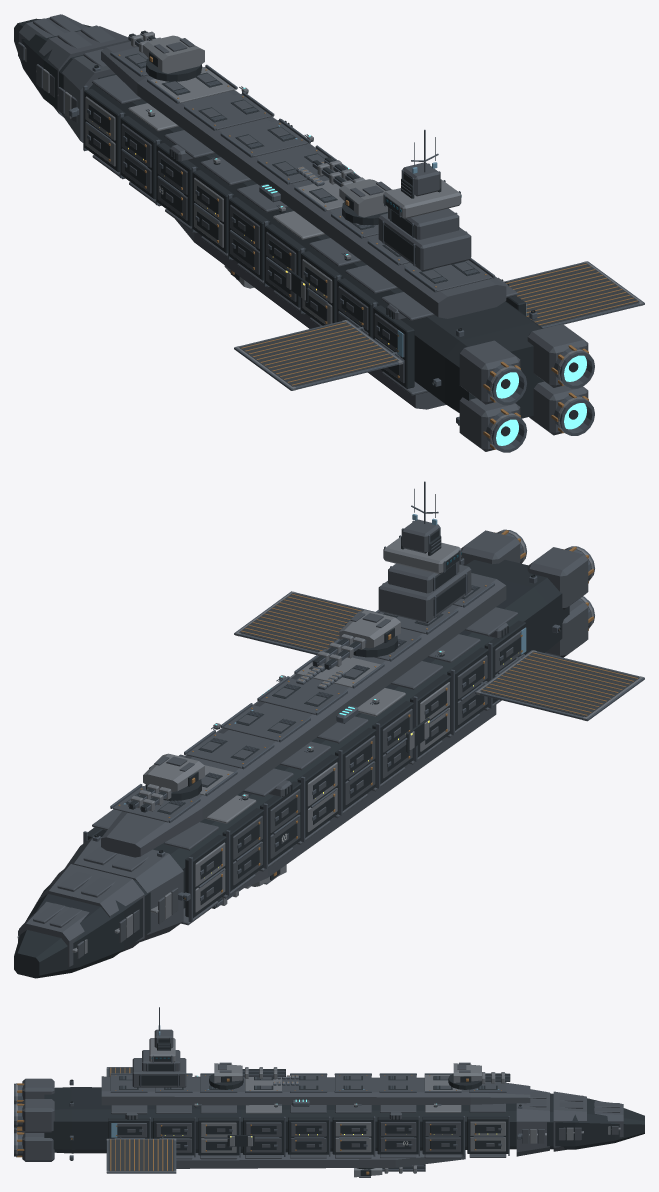
The model's file is battleship.glb.
The picture shows the model from 3 angles, top to bottom: view 1: azimuth 30°, elevation 25°; view 2: azimuth 150°, elevation 25°; view 3: azimuth 270°, elevation 25°; orthographic projection. The views are drawn at different scales.
Visible parts, largest first — view 1: FleetHull, mesh_turret_gun_1, mesh_turret_gun_2, mesh_recoil_gun_2; view 2: FleetHull, mesh_turret_gun_1, mesh_turret_gun_2, mesh_recoil_gun_2, mesh_recoil_gun_1; view 3: FleetHull, mesh_turret_gun_1, mesh_turret_gun_2, mesh_recoil_gun_2, mesh_recoil_gun_1, mesh_recoil_gun_3.
Boxes of the visible parts, box(x1,y1,x2,y2) form: FleetHull: box(14, 14, 644, 452); mesh_turret_gun_1: box(143, 35, 204, 73); mesh_turret_gun_2: box(339, 179, 392, 217); mesh_recoil_gun_2: box(312, 157, 365, 186); FleetHull: box(14, 481, 644, 978); mesh_turret_gun_1: box(143, 753, 204, 791); mesh_turret_gun_2: box(339, 610, 400, 648); mesh_recoil_gun_2: box(312, 634, 366, 669); mesh_recoil_gun_1: box(128, 784, 172, 812); FleetHull: box(14, 1007, 644, 1173); mesh_turret_gun_1: box(453, 1062, 481, 1082); mesh_turret_gun_2: box(214, 1062, 242, 1082); mesh_recoil_gun_2: box(242, 1067, 285, 1078); mesh_recoil_gun_1: box(478, 1072, 510, 1083); mesh_recoil_gun_3: box(382, 1164, 425, 1173).
Size of the model in its own units: 500 by 368 by 1266.
